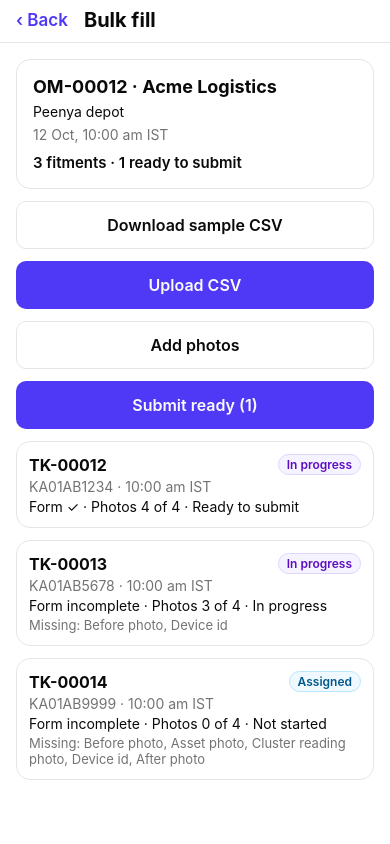
Test: BulkFillScreen › Upload CSV picks a file, posts it and shows valid and invalid rows with the counts
Step 1. Click the button with test id "upload-csv" → (195, 285), box [16,261,374,309]
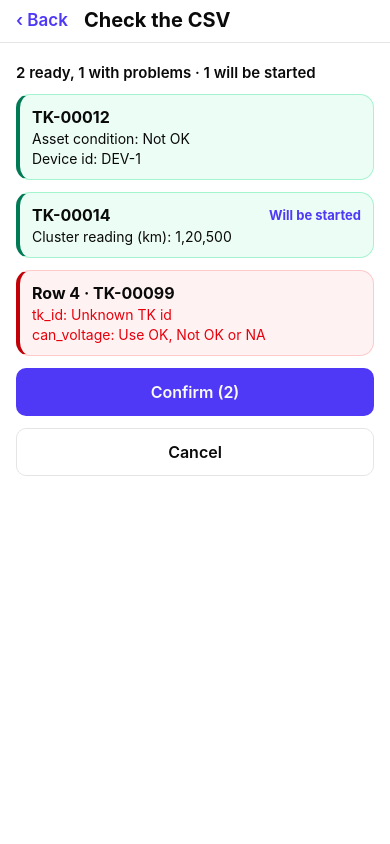
Expected: the text with test id "preview-summary" reads "2 ready, 1 with problems · 1 will be started", [16,63,316,82]
Expected: the text "Device id: DEV-1" is shown, [32,150,141,167]
Expected: the text "Asset condition: Not OK" is shown, [32,130,190,147]
